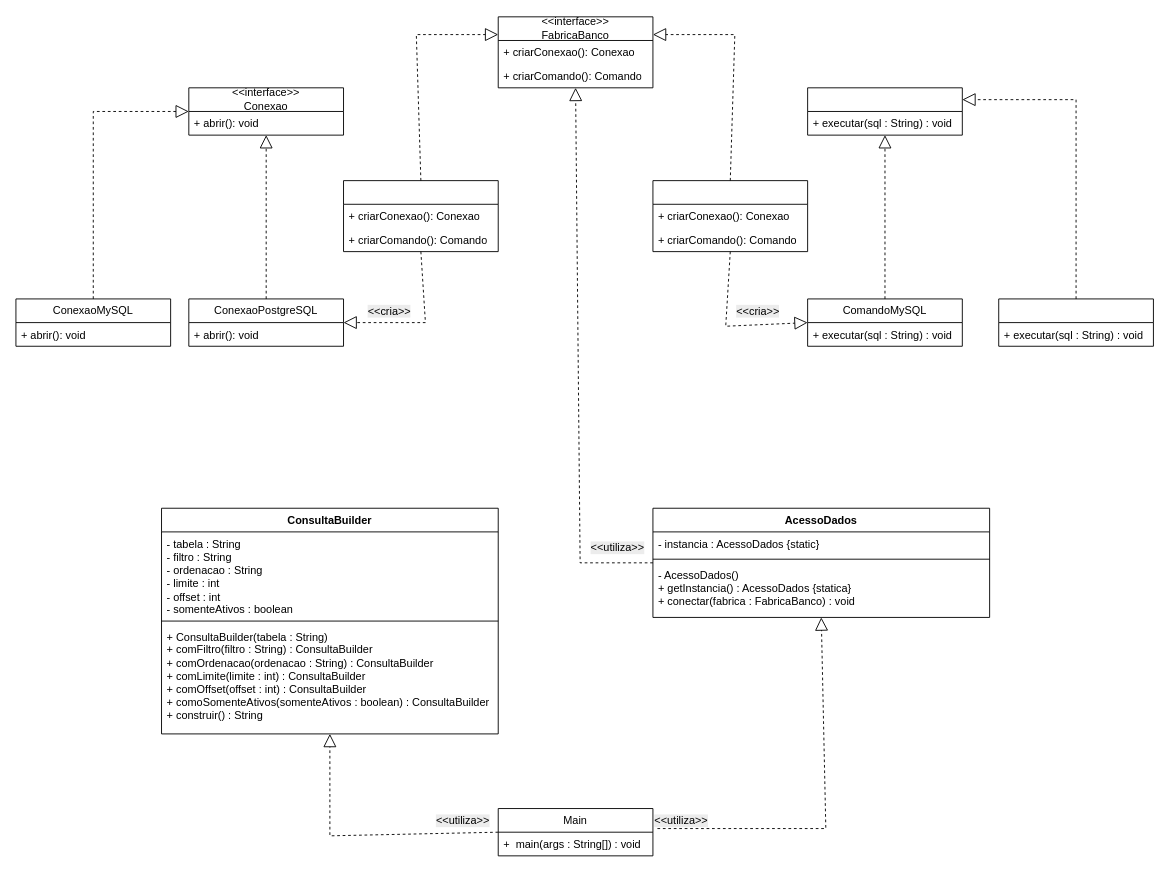
Image size: 1169x875. Some labels were removed from this diagram. The box of each missing label's shape, as (x1, y1, x2, y2) in pixels:
<<interface>> Comando: (807, 87, 962, 135)
ComandoPostgreSQL: (998, 298, 1153, 346)
FabricaMySQL: (343, 180, 498, 252)
FabricaPostgreSQL: (652, 180, 808, 252)
